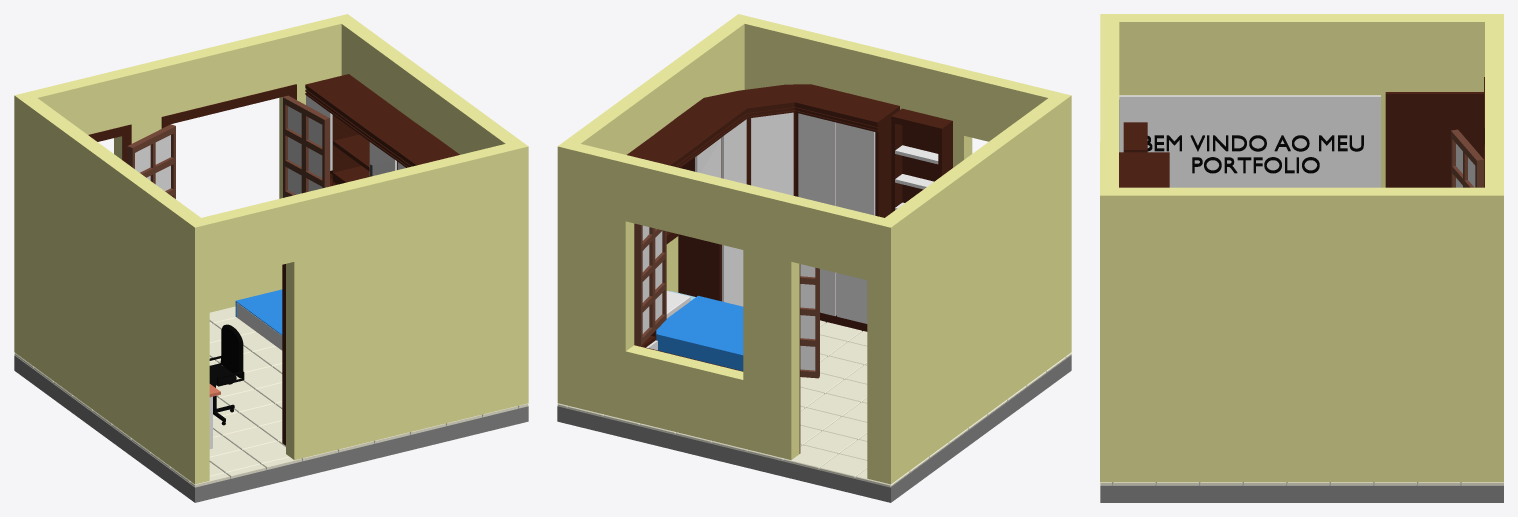
The model's file is portfolio quarto primeira pessoa.glb.
The picture shows the model from 3 angles, left to right: view 1: azimuth 30°, elevation 25°; view 2: azimuth 150°, elevation 25°; view 3: azimuth 270°, elevation 25°; orthographic projection. The views are drawn at different scales.
Visible parts, largest first — view 1: Cube, Cube.005, Cube.001, Cube.002, Cube.027, Cube.028, Cube.006, Circle, Cube.007; view 2: Cube, Cube.001, Cube.005, Cube.002, Cube.006, Cube.007, Cube.027, Cube.028; view 3: Cube, Plane.002, Cube.026, Cube.002, Text, Cube.001, Cube.005, Cube.028, Cube.007.
Boxes of the visible parts, left/top/right/bottom form: Cube: left=14, top=14, right=528, bottom=484; Cube.005: left=14, top=306, right=528, bottom=487; Cube.001: left=305, top=74, right=459, bottom=186; Cube.002: left=14, top=355, right=528, bottom=502; Cube.027: left=283, top=95, right=329, bottom=197; Cube.028: left=127, top=124, right=175, bottom=198; Cube.006: left=235, top=289, right=282, bottom=350; Circle: left=209, top=324, right=244, bottom=425; Cube.007: left=282, top=264, right=285, bottom=445; Cube: left=557, top=14, right=1071, bottom=484; Cube.001: left=627, top=84, right=899, bottom=350; Cube.005: left=557, top=320, right=1071, bottom=487; Cube.002: left=557, top=355, right=1071, bottom=502; Cube.006: left=656, top=291, right=743, bottom=370; Cube.007: left=891, top=108, right=952, bottom=212; Cube.027: left=634, top=223, right=666, bottom=345; Cube.028: left=800, top=264, right=819, bottom=378; Cube: left=1100, top=14, right=1503, bottom=482; Plane.002: left=1119, top=95, right=1380, bottom=187; Cube.026: left=1385, top=92, right=1483, bottom=187; Cube.002: left=1100, top=482, right=1503, bottom=502; Text: left=1147, top=135, right=1363, bottom=173; Cube.001: left=1119, top=152, right=1169, bottom=187; Cube.005: left=1100, top=482, right=1503, bottom=485; Cube.028: left=1451, top=129, right=1483, bottom=187; Cube.007: left=1123, top=122, right=1147, bottom=152.
Size of what is drawn, in the model's own units: 11.39 by 8.98 by 10.7.
